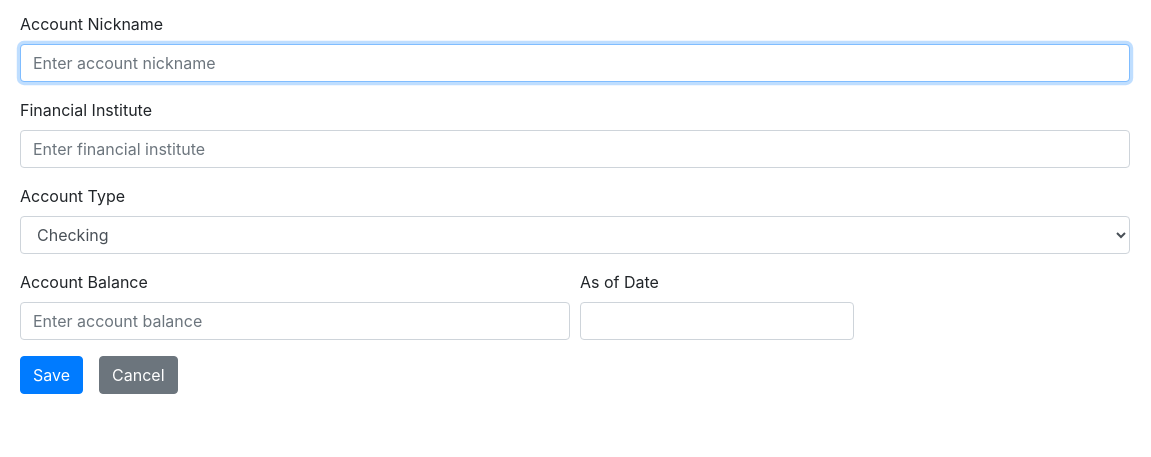
AccountForm › Requires values for account nickname and financial institute
Click the button "Save" at (52, 375), box [20, 356, 83, 394]
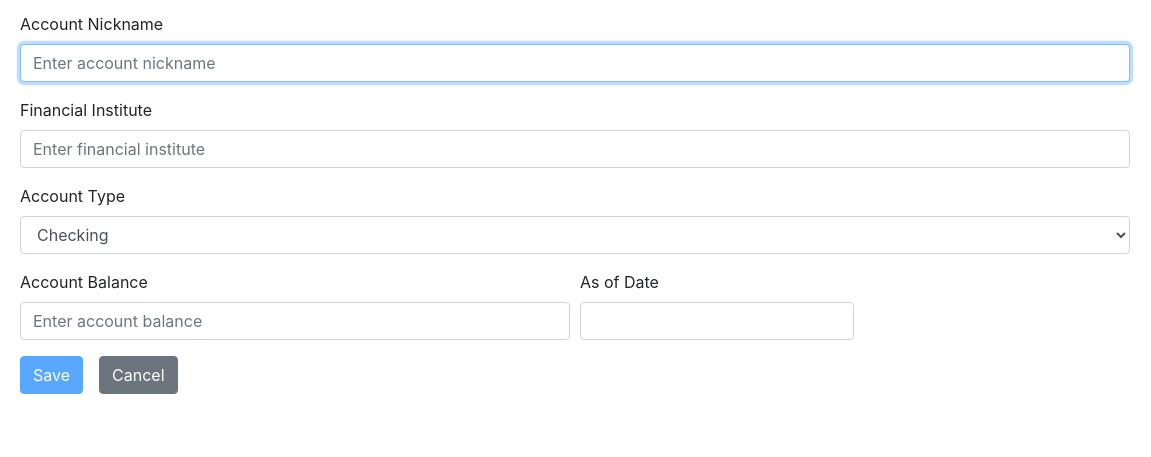
Click the button "Save" at (52, 375), box [20, 356, 83, 394]
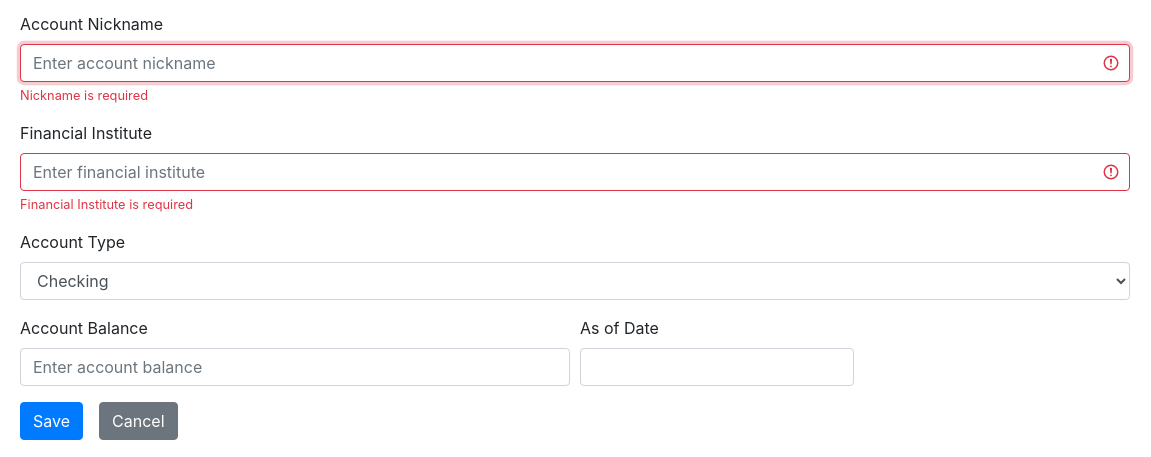
Now the text with test id "nickname-error" reads "Nickname is required", box [20, 88, 148, 103]
Now the text with test id "fi-error" reads "Financial Institute is required", box [20, 197, 193, 212]
